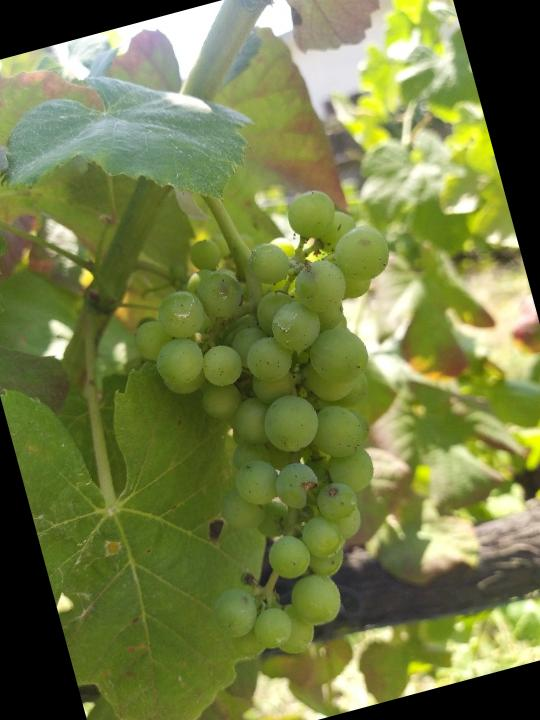grape: (103, 172, 486, 675)
